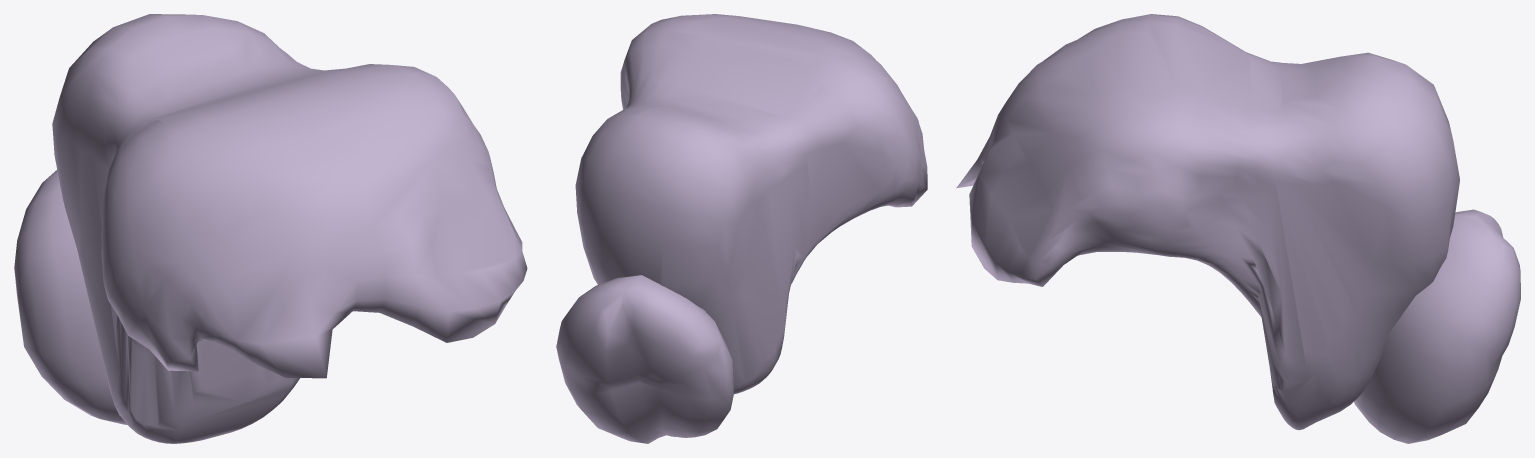
The model's file is Mane_18.fbx.
3 renders of one model, left to right at view 1: azimuth 30°, elevation 25°; view 2: azimuth 150°, elevation 25°; view 3: azimuth 270°, elevation 25°, orthographic. The views are drawn at different scales.
Visible parts, largest first — view 1: Mane_18; view 2: Mane_18; view 3: Mane_18.
Boxes of the visible parts, <box> form: Mane_18: <box>14,14,527,443</box>; Mane_18: <box>556,14,927,443</box>; Mane_18: <box>956,14,1520,443</box>.
Size of the model in its own units: 138 by 151 by 205.
